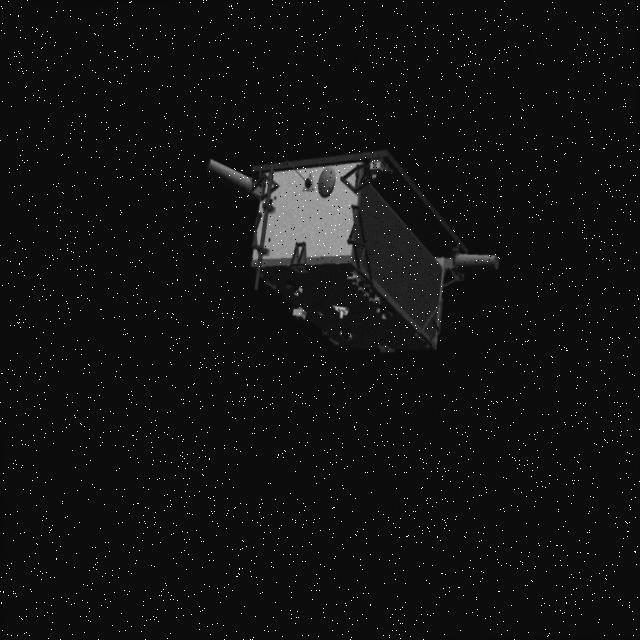satellite: (184, 142, 522, 364)
